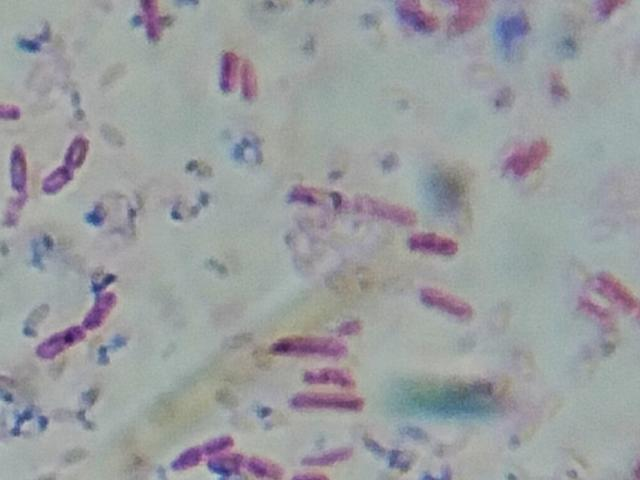E. coli: (293, 182, 414, 223), (264, 326, 352, 361), (420, 279, 477, 321), (290, 387, 368, 416), (405, 226, 463, 257), (507, 137, 546, 181), (80, 291, 120, 330), (35, 326, 88, 355), (598, 270, 639, 307), (216, 455, 270, 479), (580, 292, 611, 333), (137, 4, 168, 44), (238, 57, 263, 106), (303, 366, 358, 387), (300, 448, 354, 469), (398, 0, 434, 30), (217, 48, 240, 93), (10, 141, 30, 192), (159, 444, 199, 468), (199, 429, 234, 453), (40, 164, 70, 191), (60, 135, 84, 168), (0, 101, 20, 125)
